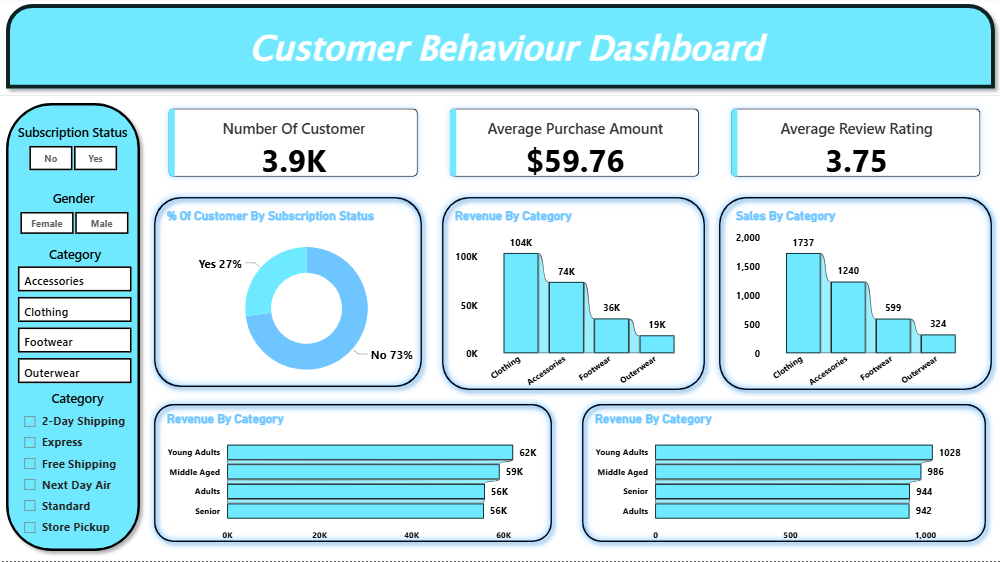

This screenshot's page, from the dashboard's own definition file:
{"tool":"powerbi","page":{"name":"Page 1","canvas":[1280,720],"ordinal":0},"visuals":[{"type":"shape","box":[0,0,1280,125.9],"z":0},{"type":"textbox","box":[239.9,28.1,815.5,79.1],"z":1000},{"type":"shape","box":[0,126.3,188.9,589.6],"z":2000},{"type":"cardVisual","fields":{"Data":["CountNonNull(public C_B.customer_id)","Avg(public C_B.purchase_amount)","Avg(public C_B.review_rating)"]},"box":[200.4,126.3,1068.2,120],"z":3000},{"type":"shape","box":[188.9,246.3,359.9,260.3],"z":4000},{"type":"shape","box":[909.9,246.3,366.3,264.2],"z":5000},{"type":"shape","box":[556.4,246.3,353.5,264.2],"z":6000},{"type":"shape","box":[188.9,510.5,525.8,194],"z":7000},{"type":"shape","box":[735.1,510.5,533.4,194],"z":8000},{"type":"donutChart","title":"% Of Customer By Subscription Status","fields":{"Category":["public C_B.subscription_status"],"Y":["CountNonNull(public C_B.frequency_of_purchases)"]},"box":[209.3,269.3,366.3,236.1],"z":9000},{"type":"columnChart","title":"Revenue By Category","fields":{"Category":["public C_B.category"],"Y":["Sum(public C_B.purchase_amount)"]},"box":[576.8,269.3,315.2,237.4],"z":10000},{"type":"columnChart","title":"Sales By Category","fields":{"Y":["CountNonNull(public C_B.purchase_amount)"],"Category":["public C_B.category"]},"box":[935.4,269.3,315.2,237.4],"z":11000},{"type":"barChart","title":"Revenue By Category","fields":{"Y":["Sum(public C_B.purchase_amount)"],"Category":["public C_B.age_group"]},"box":[209.3,528.3,492.6,176.1],"z":12000},{"type":"barChart","title":"Revenue By Category","fields":{"Y":["CountNonNull(public C_B.purchase_amount)"],"Category":["public C_B.age_group"]},"box":[755.5,528.3,492.6,176.1],"z":13000},{"type":"slicer","title":"Subscription Status","fields":{"Values":["public C_B.subscription_status"]},"box":[12.8,162.1,162.1,66.4],"z":14000},{"type":"slicer","title":"Gender","fields":{"Values":["public C_B.gender"]},"box":[1.3,246.3,187.6,61.3],"z":15000},{"type":"slicer","title":"Category","fields":{"Values":["public C_B.shipping_type"]},"box":[19.1,501.5,162.1,211.8],"z":16000},{"type":"advancedSlicerVisual","title":"Category","fields":{"Values":["public C_B.category"]},"box":[19.1,317.8,155.7,183.8],"z":17000}]}

Visuals, with their boxes in screenshot pixels (x1, y1, x2, y2), scaled from the page's 1280x720 canvas onto the 1000x562 screenshot:
shape: box(0, 0, 999, 98)
textbox: box(187, 22, 825, 84)
shape: box(0, 99, 148, 559)
cardVisual - CountNonNull(public C_B.customer_id) x Avg(public C_B.purchase_amount): box(157, 99, 991, 192)
shape: box(148, 192, 429, 395)
shape: box(711, 192, 997, 398)
shape: box(435, 192, 711, 398)
shape: box(148, 398, 558, 550)
shape: box(574, 398, 991, 550)
"% Of Customer By Subscription Status" donutChart: box(164, 210, 450, 394)
"Revenue By Category" columnChart: box(451, 210, 697, 396)
"Sales By Category" columnChart: box(731, 210, 977, 396)
"Revenue By Category" barChart: box(164, 412, 548, 550)
"Revenue By Category" barChart: box(590, 412, 975, 550)
"Subscription Status" slicer: box(10, 127, 137, 178)
"Gender" slicer: box(1, 192, 148, 240)
"Category" slicer: box(15, 391, 142, 557)
"Category" advancedSlicerVisual: box(15, 248, 137, 392)
